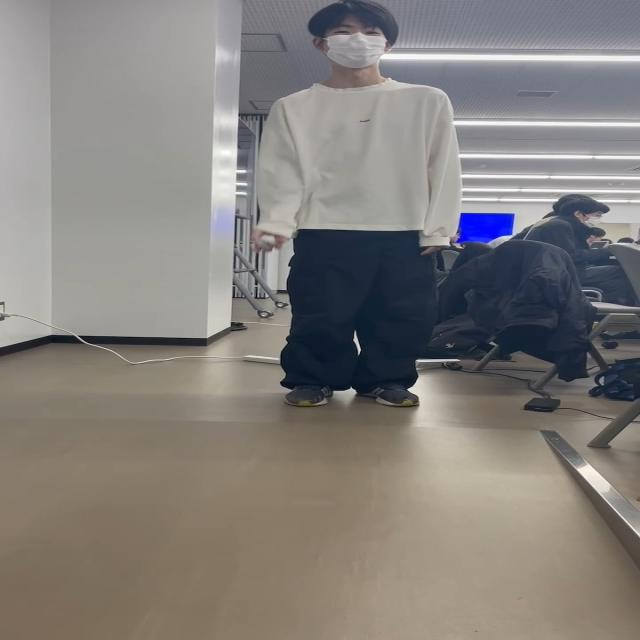paper: (253, 232, 284, 248)
